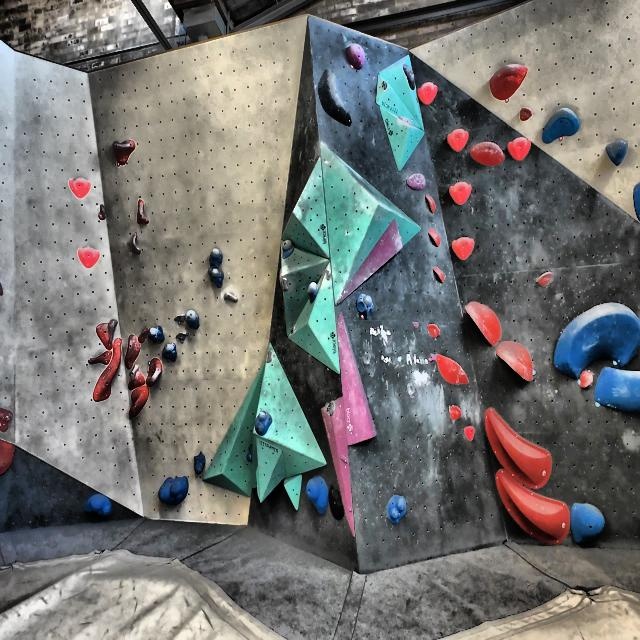Hold: (496, 470, 573, 554), (481, 402, 556, 488), (335, 218, 408, 306), (335, 309, 379, 452), (558, 304, 640, 377), (322, 401, 355, 534), (315, 68, 353, 130), (462, 296, 504, 347), (596, 369, 640, 413), (94, 338, 122, 403), (499, 339, 536, 387), (574, 499, 610, 548), (488, 64, 529, 105), (539, 108, 579, 145), (434, 348, 471, 386), (153, 478, 193, 507), (471, 138, 510, 167), (340, 44, 380, 69), (110, 135, 140, 168), (120, 330, 140, 375), (82, 489, 111, 518), (308, 473, 328, 514), (124, 390, 150, 420), (414, 80, 441, 108), (604, 135, 630, 164), (78, 242, 103, 272), (510, 134, 535, 164), (387, 495, 412, 524), (356, 290, 381, 318), (448, 178, 472, 207), (450, 234, 476, 260), (446, 124, 470, 152), (0, 436, 16, 476), (329, 486, 346, 522), (397, 62, 415, 96), (0, 398, 17, 432), (96, 322, 118, 348), (251, 412, 277, 434), (70, 175, 93, 199), (159, 346, 181, 371), (532, 268, 554, 293), (192, 451, 210, 480), (627, 179, 640, 218), (128, 362, 145, 391), (148, 353, 161, 390), (136, 201, 153, 229), (426, 224, 444, 250), (405, 170, 427, 191), (82, 349, 109, 366), (243, 442, 260, 469), (208, 266, 227, 290), (184, 312, 208, 328), (148, 320, 164, 344), (308, 280, 323, 304), (206, 246, 223, 266), (576, 371, 592, 392), (425, 323, 443, 341), (518, 105, 536, 123), (426, 190, 440, 213), (131, 229, 142, 257), (169, 312, 187, 329), (432, 264, 448, 283), (98, 202, 110, 225), (281, 236, 294, 257), (224, 292, 241, 308), (175, 329, 191, 344)
